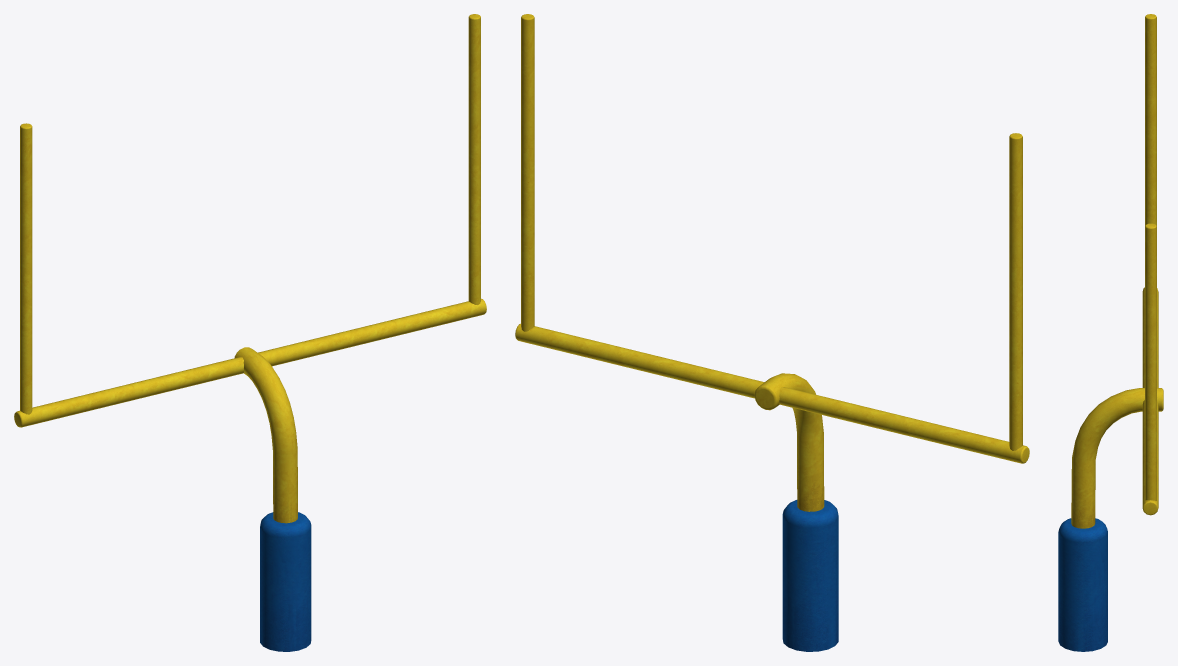
Rendered from American_Football_Goal.glb.
3 views of the same model, side by side, from view 1: azimuth 30°, elevation 25°; view 2: azimuth 150°, elevation 25°; view 3: azimuth 270°, elevation 25° (orthographic). The views are drawn at different scales.
Parts seen in each view (by area): view 1: American_Football_Goal__LOD3; view 2: American_Football_Goal__LOD3; view 3: American_Football_Goal__LOD3.
Boxes of the visible parts, x1=… form: American_Football_Goal__LOD3: x1=14, y1=14, x2=486, y2=651; American_Football_Goal__LOD3: x1=515, y1=14, x2=1029, y2=651; American_Football_Goal__LOD3: x1=1058, y1=14, x2=1163, y2=651.
Bounding box in the file's own units: 5.87 × 6.56 × 1.2.
Materials: 1 (1 with a texture image).
